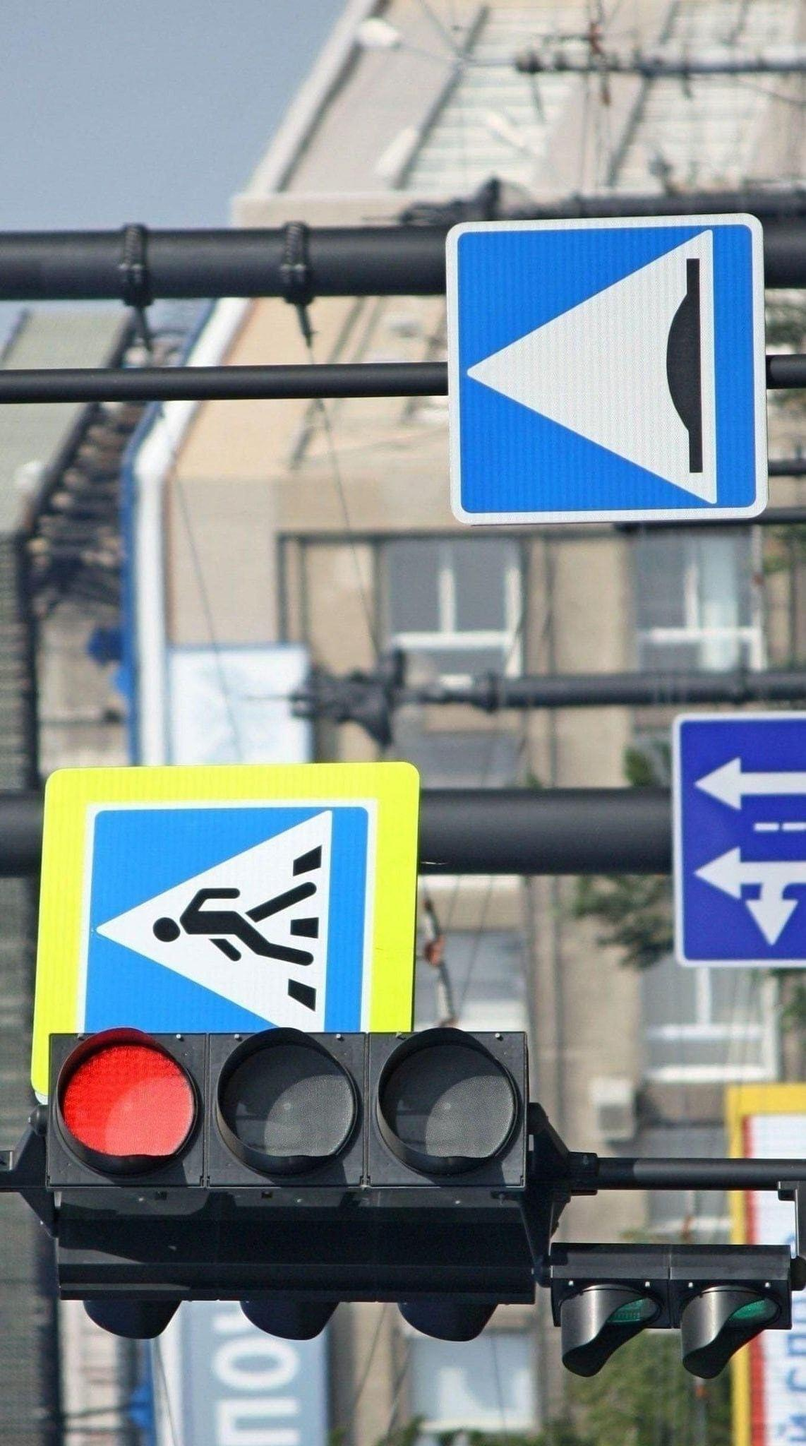obstructed_road_sign: (195, 52, 383, 756), (512, 797, 688, 1380), (267, 1205, 410, 1446)
off traffic light: (55, 102, 128, 965)
traffic light: (142, 80, 231, 945), (37, 984, 113, 1422)
